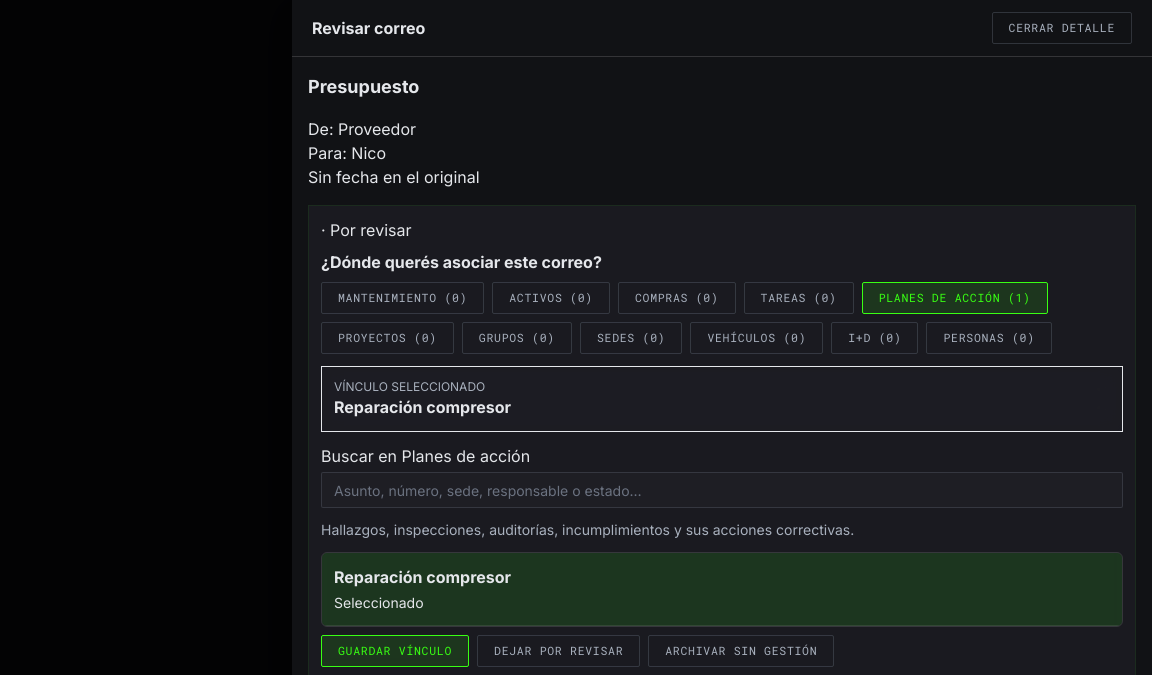
Test case: Bandeja de correos › muestra errores de revisión sin cerrar ni anunciar éxito
The image size is (1152, 675).
Check: the heading "Presupuesto" is shown, box [308,76,419,97]
What coordinates should you click on to do the following:
click the button "Guardar vínculo"
I would click on:
 (395, 651)
Its box is [321,635,469,667].
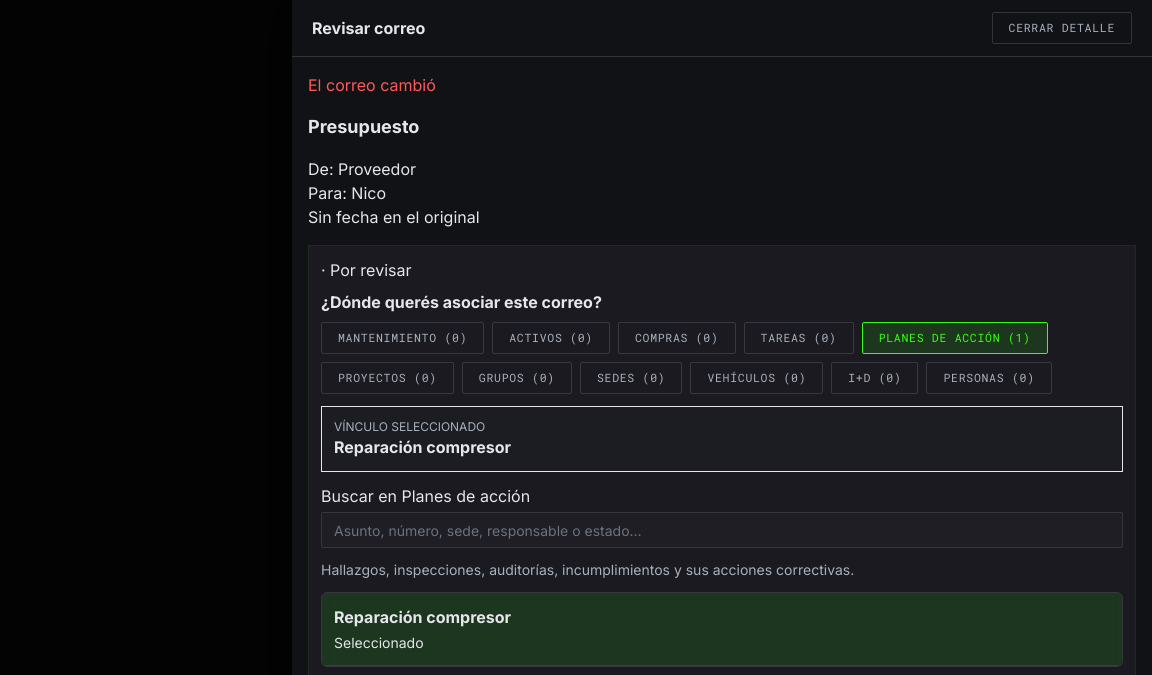
Check: the message reads "El correo cambió", box [308,75,436,95]
